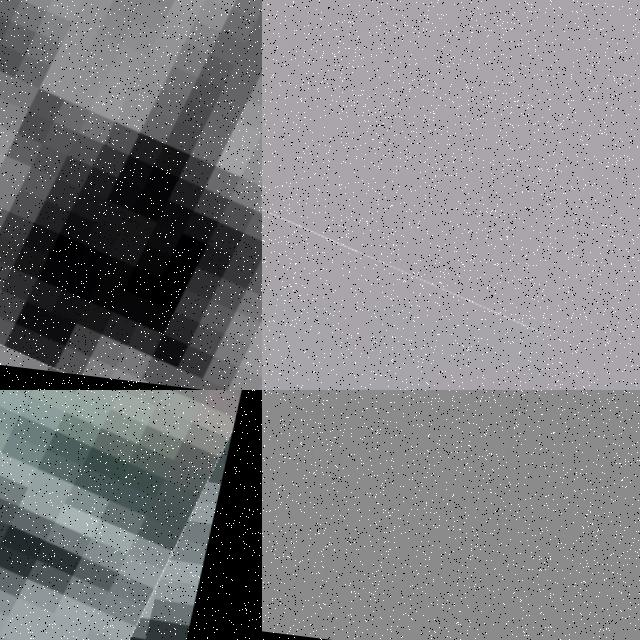0: (0, 0, 262, 390)
drone: (262, 0, 640, 371), (0, 390, 262, 640)
